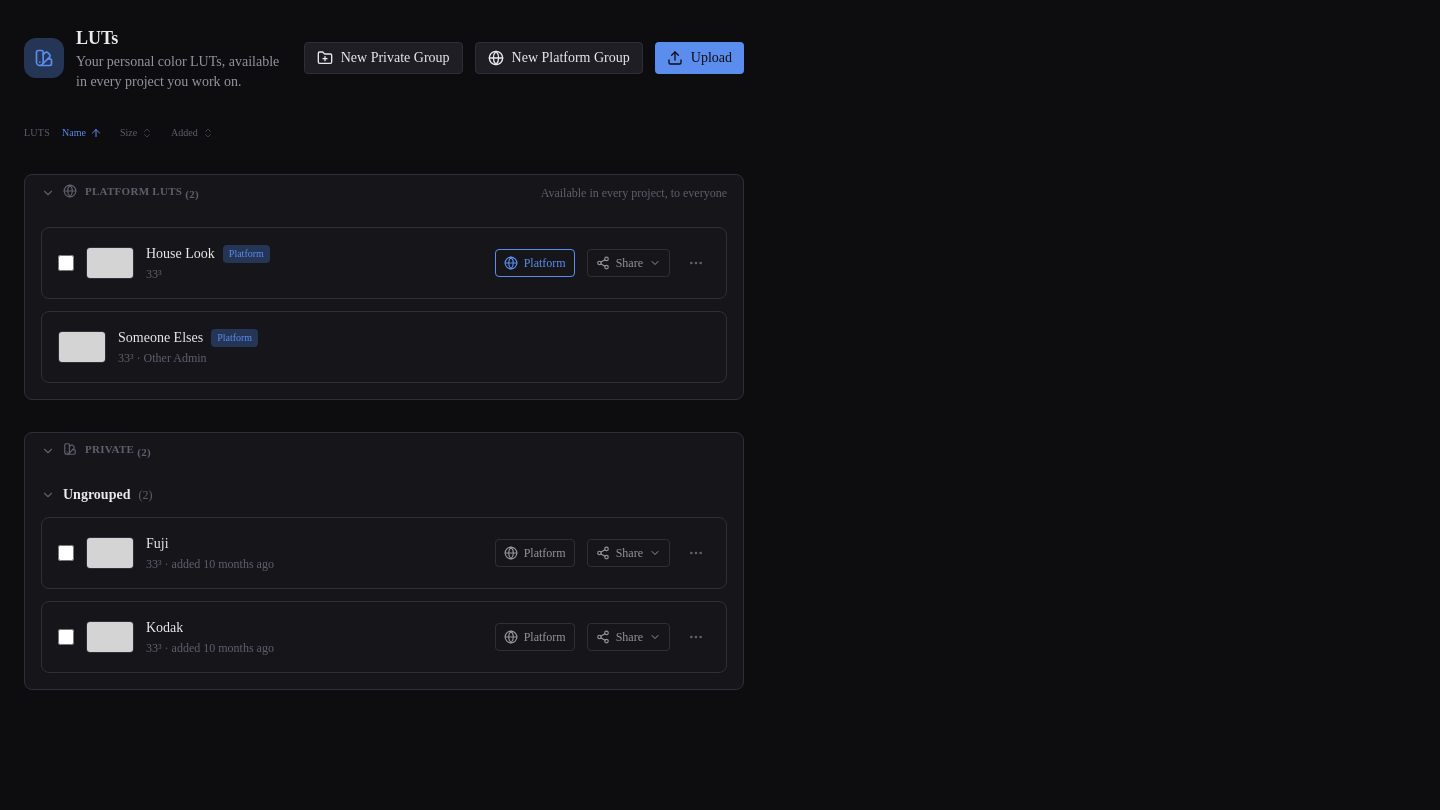
Test: deleting › spans Platform and Private in one action, through the single-item endpoint
Click the checkbox named "Select Kodak": (66, 636) [58,628,74,644]
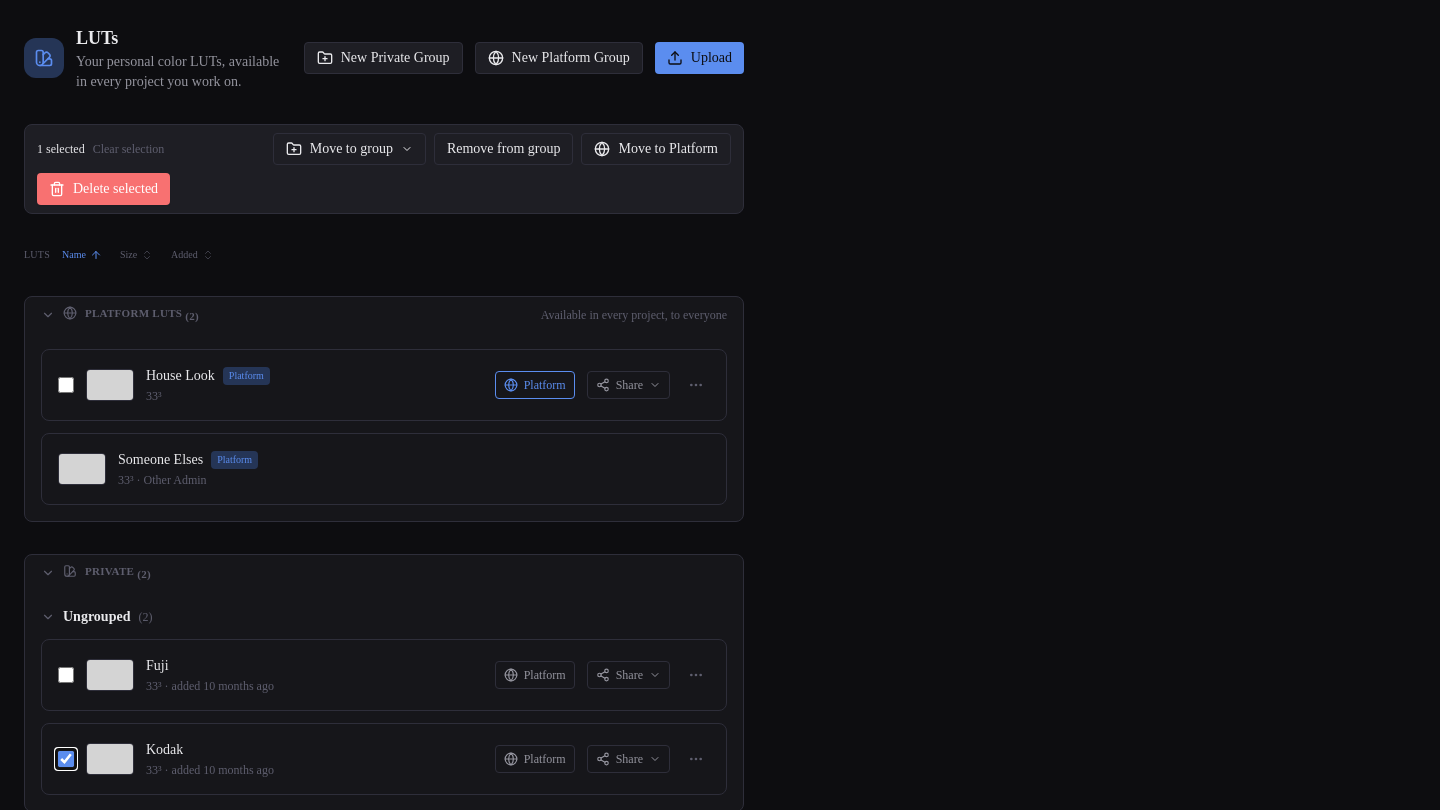
Click the checkbox named "Select Fuji": (66, 674) [58,666,74,682]
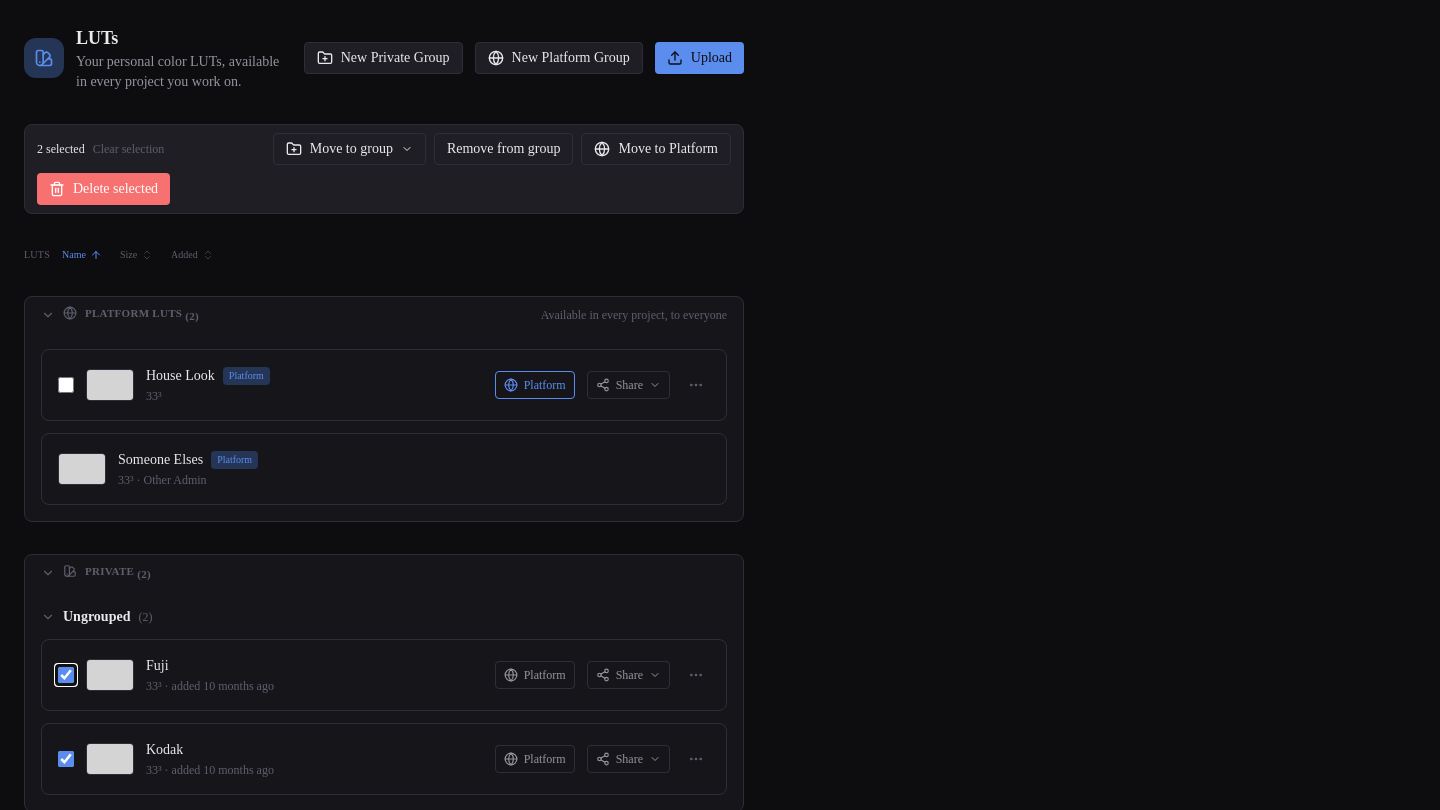
Click the checkbox named "Select House Look": (66, 385) [58,377,74,393]
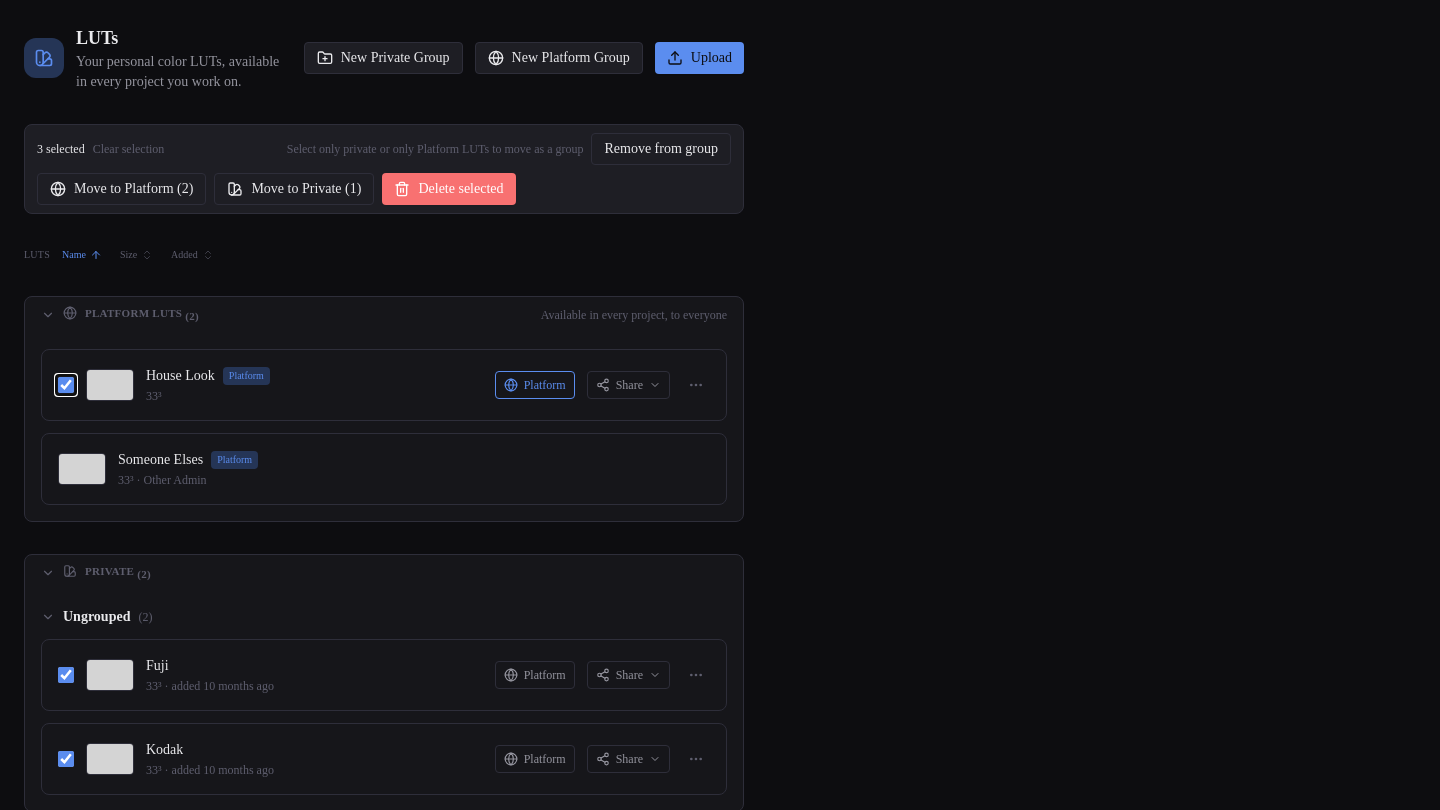
Expected: the text "3 selected" is shown, [37,141,85,157]
Click the button "Delete selected": (449, 189) [382,173,516,205]
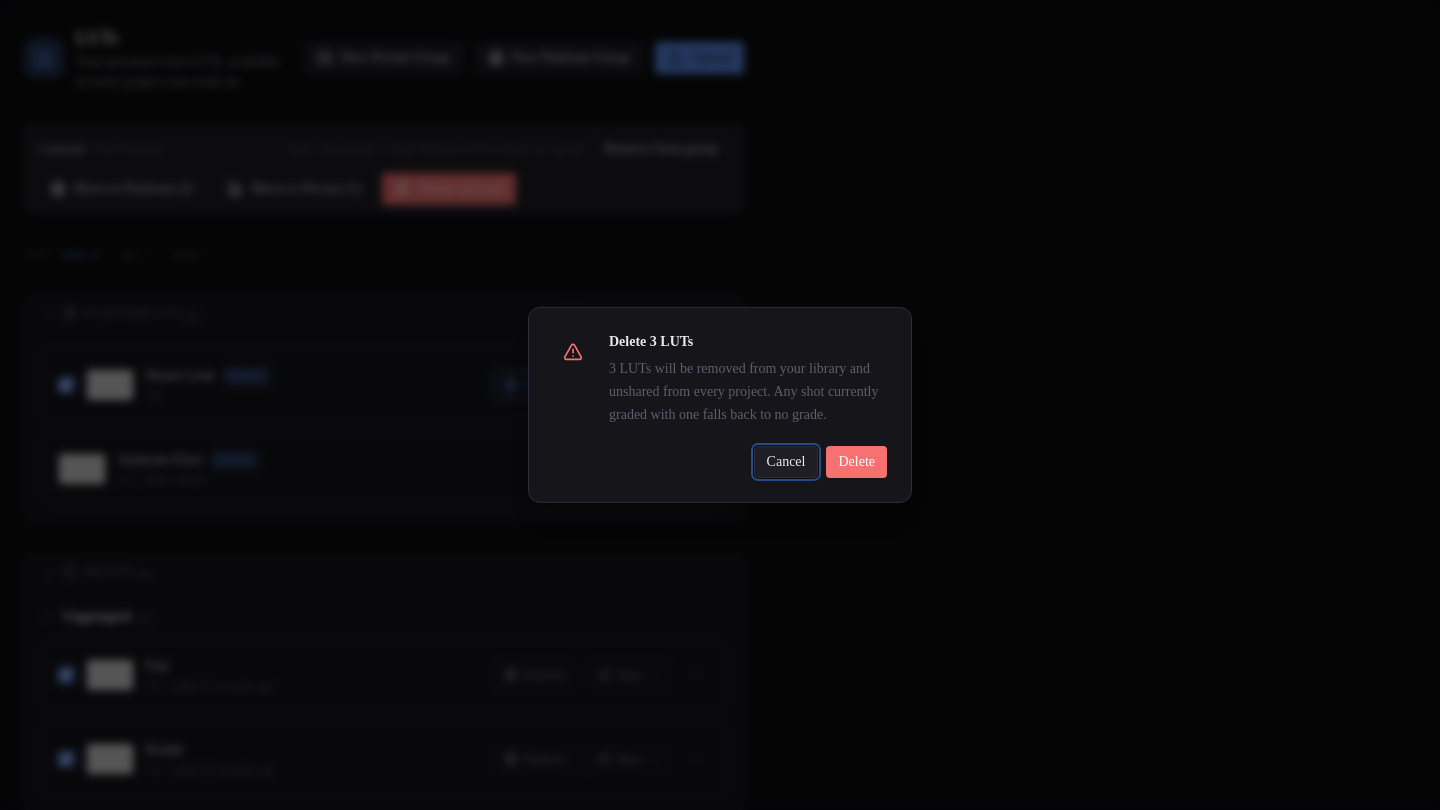
Click the button "Delete": (857, 462) [826,446,887,478]
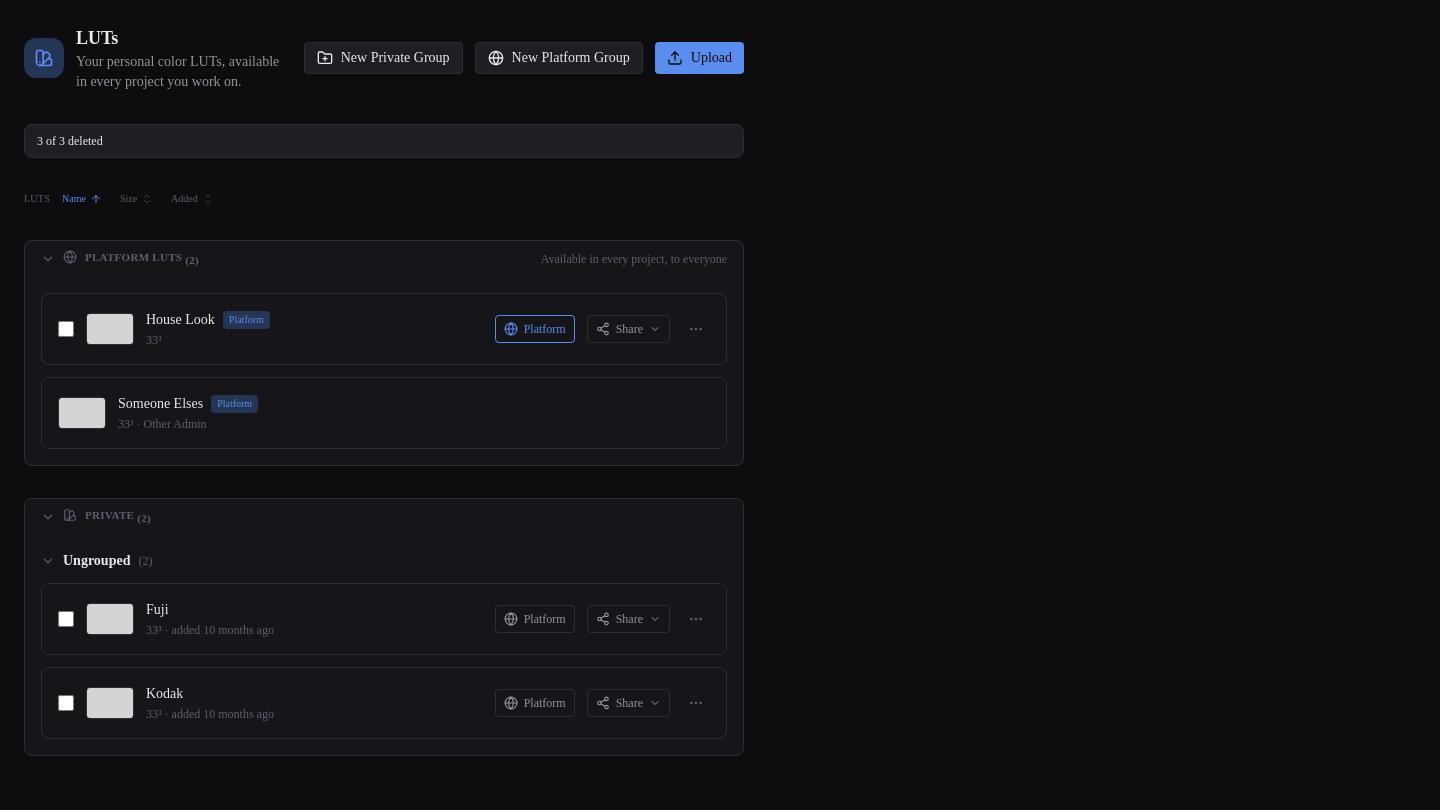
Expected: the text "selected" is gone
